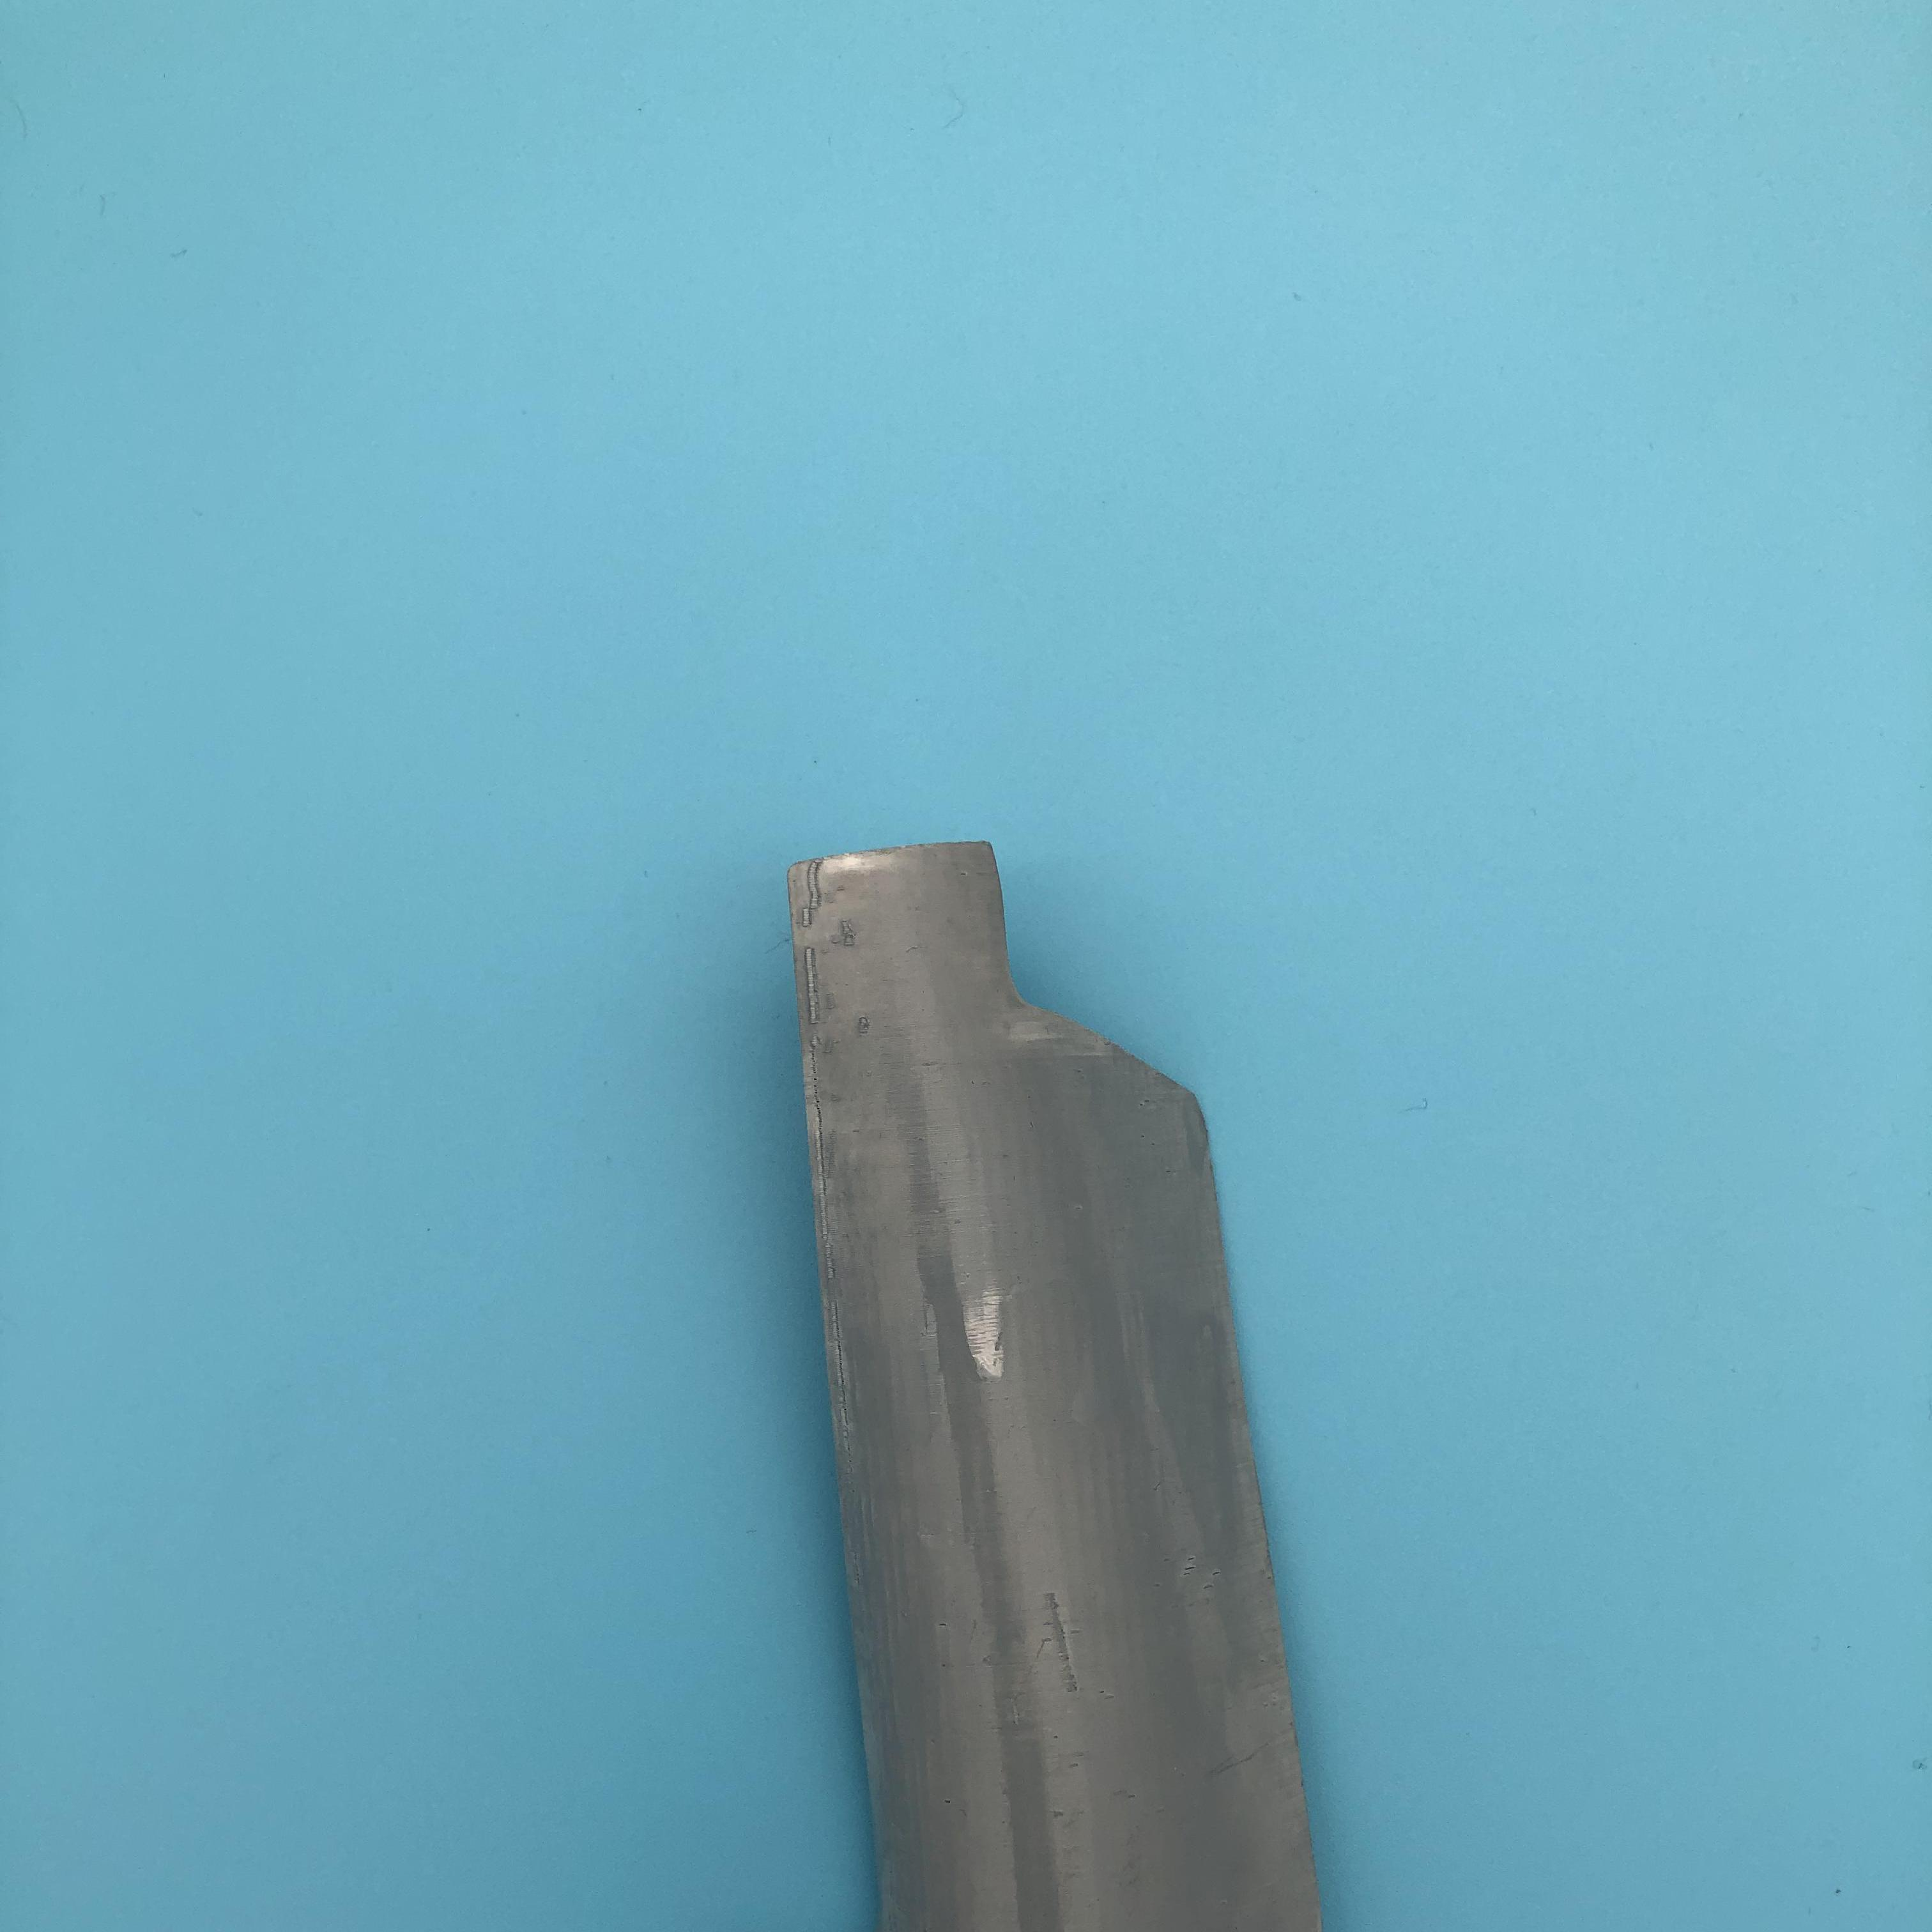fracture: (968, 853, 1217, 1106)
